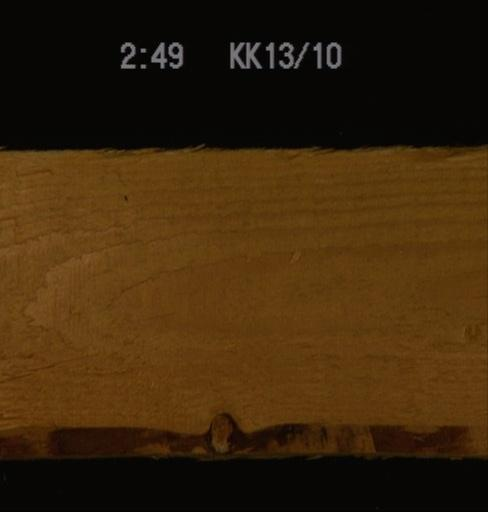split: (0, 344, 107, 383)
wave: (0, 410, 486, 456), (376, 145, 485, 164)
